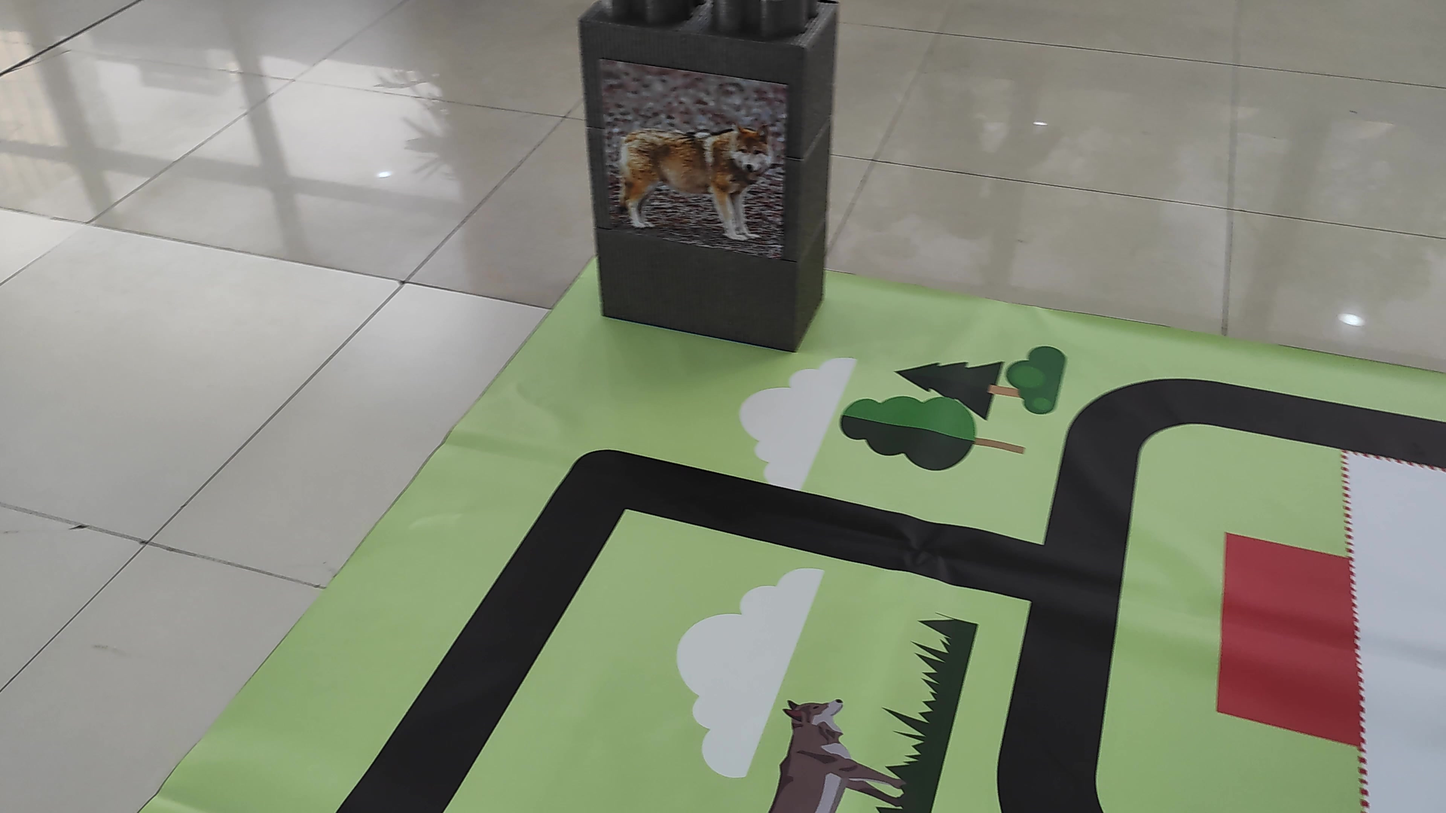wolf: (598, 73, 789, 241)
